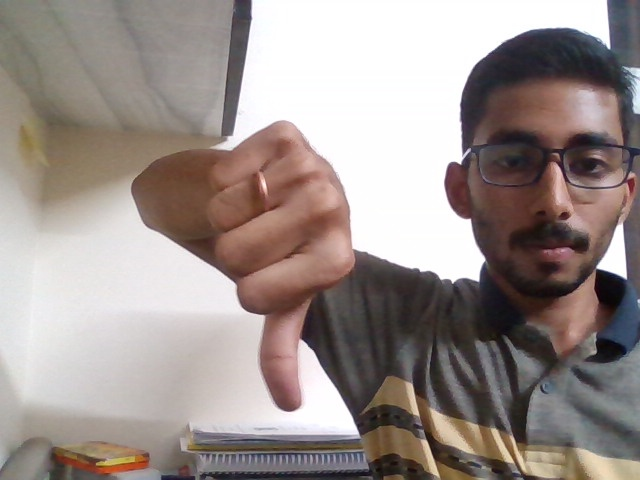No: (202, 110, 368, 423)
